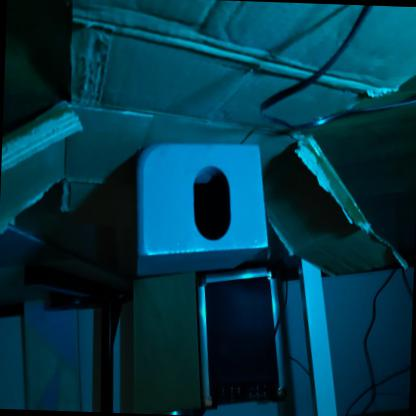CornerCasting: (128, 138, 274, 287)
